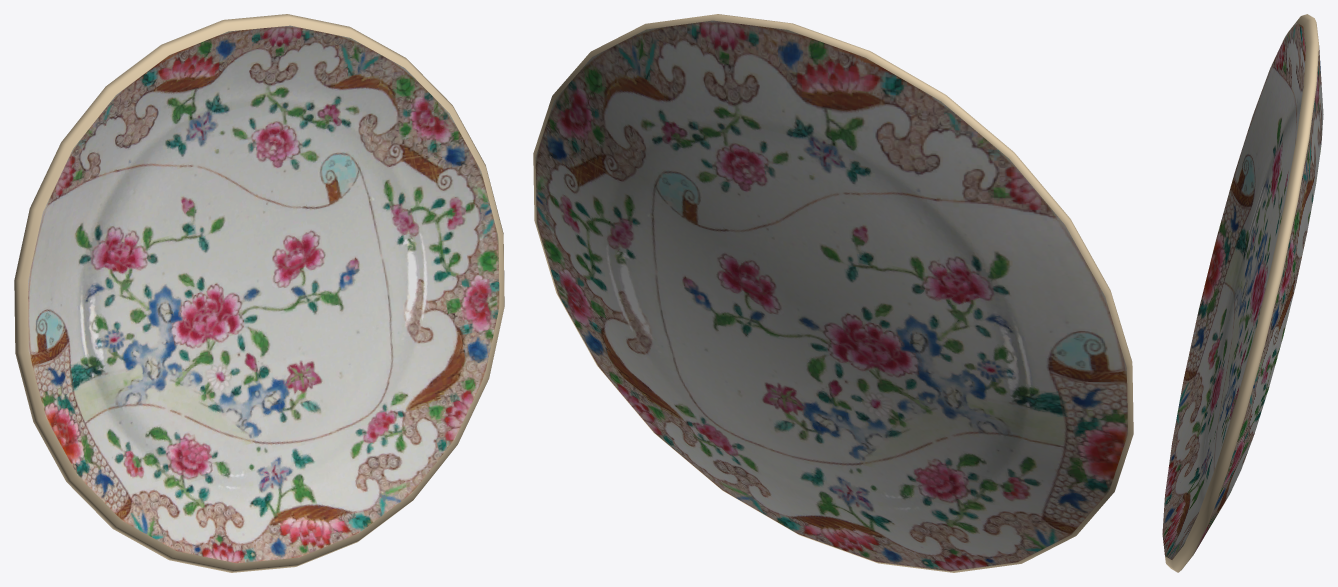
The model's file is Plate1.a.fbx.
3 renders of one model, left to right at view 1: azimuth 30°, elevation 25°; view 2: azimuth 150°, elevation 25°; view 3: azimuth 270°, elevation 25°, orthographic. The views are drawn at different scales.
Parts seen in each view (by area): view 1: Group 0; view 2: Group 0; view 3: Group 0.
Part boxes in pixels (<box>): Group 0: <box>14,14,504,572</box>; Group 0: <box>533,14,1133,572</box>; Group 0: <box>1162,14,1323,572</box>.
Size of the model in its own units: 26.86 by 25.94 by 7.5.
Materials: 1 (1 with a texture image).
